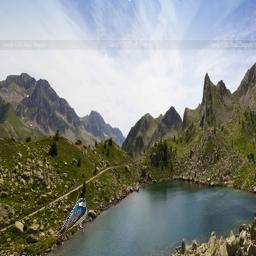Swallow: (55, 197, 88, 237)
